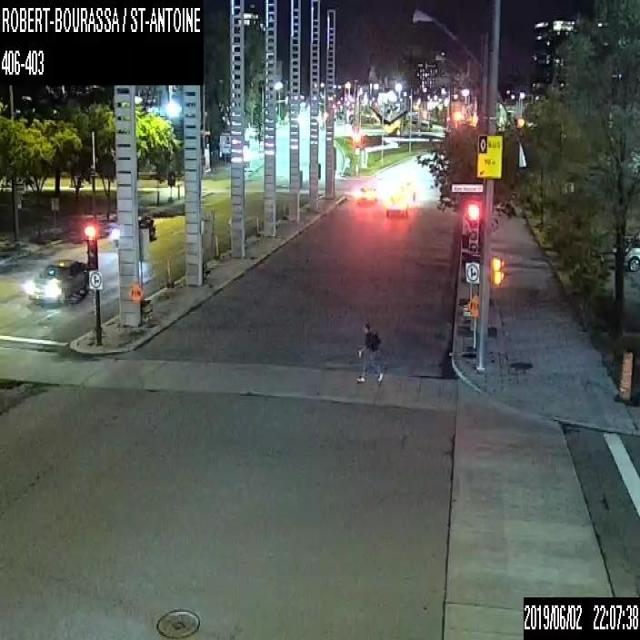construction: (138, 226, 152, 322), (200, 209, 215, 283), (466, 294, 479, 358), (618, 350, 633, 402), (127, 280, 144, 302)
pedestrian: (354, 320, 384, 383)
vehicle: (25, 256, 87, 305), (111, 214, 155, 246), (624, 234, 639, 272), (386, 191, 407, 216), (396, 180, 416, 200), (357, 184, 377, 202)
